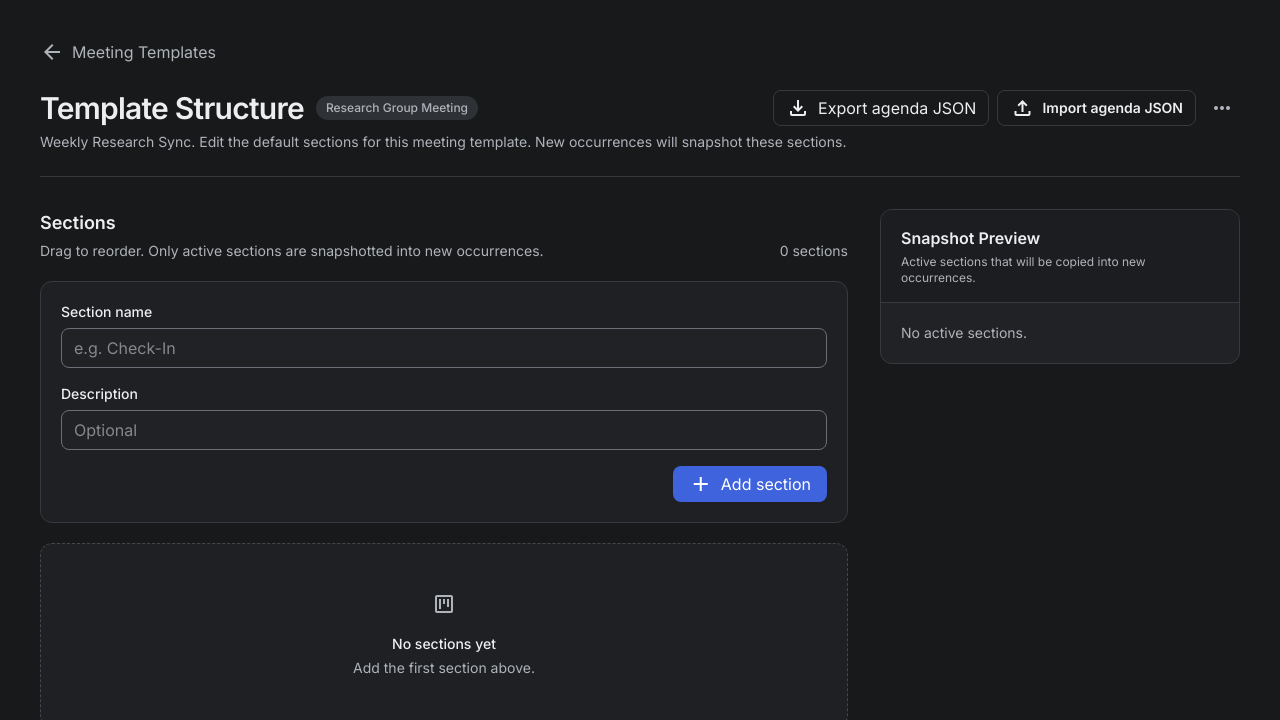
it: MeetingSeriesDetailPage template deletion › requires explicit confirmation and names the template before deleting
Expected: the heading "Template Structure" is shown, [40,90,304,126]
Click the button named "Template actions": (1222, 108) [1204,90,1240,126]
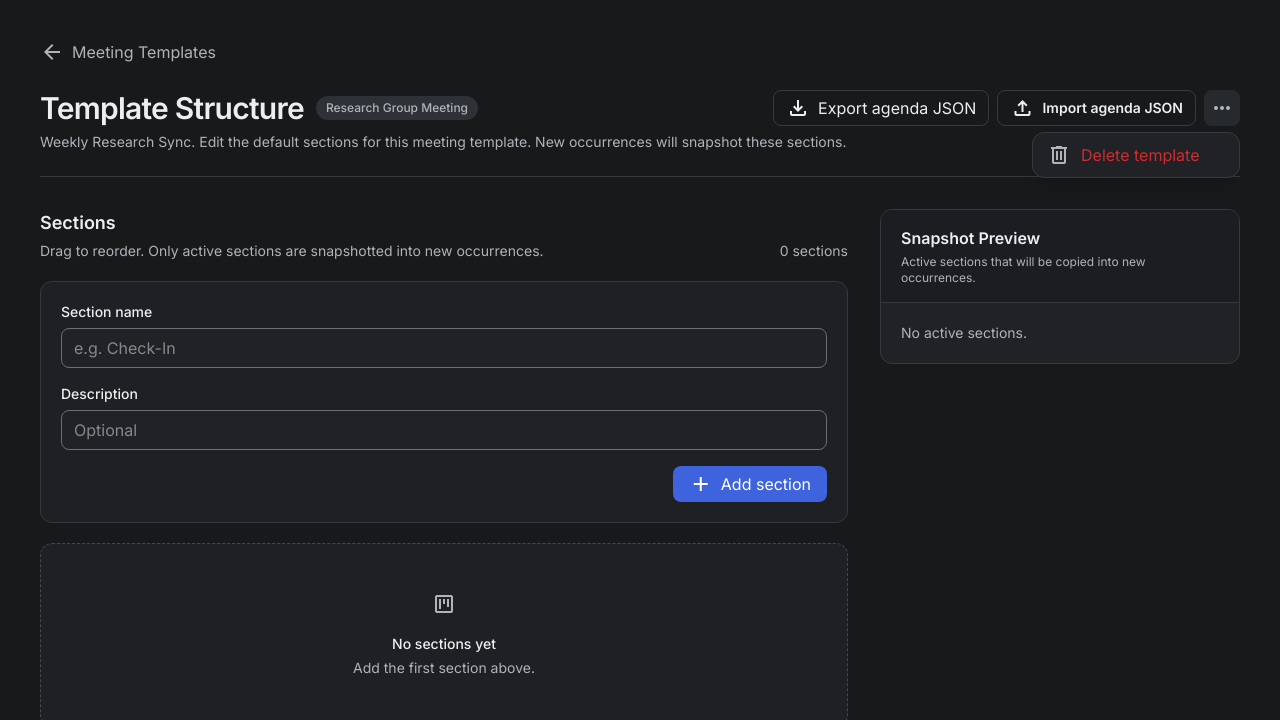
Click the menu item "Delete template": (1136, 155) [1037,137,1235,173]
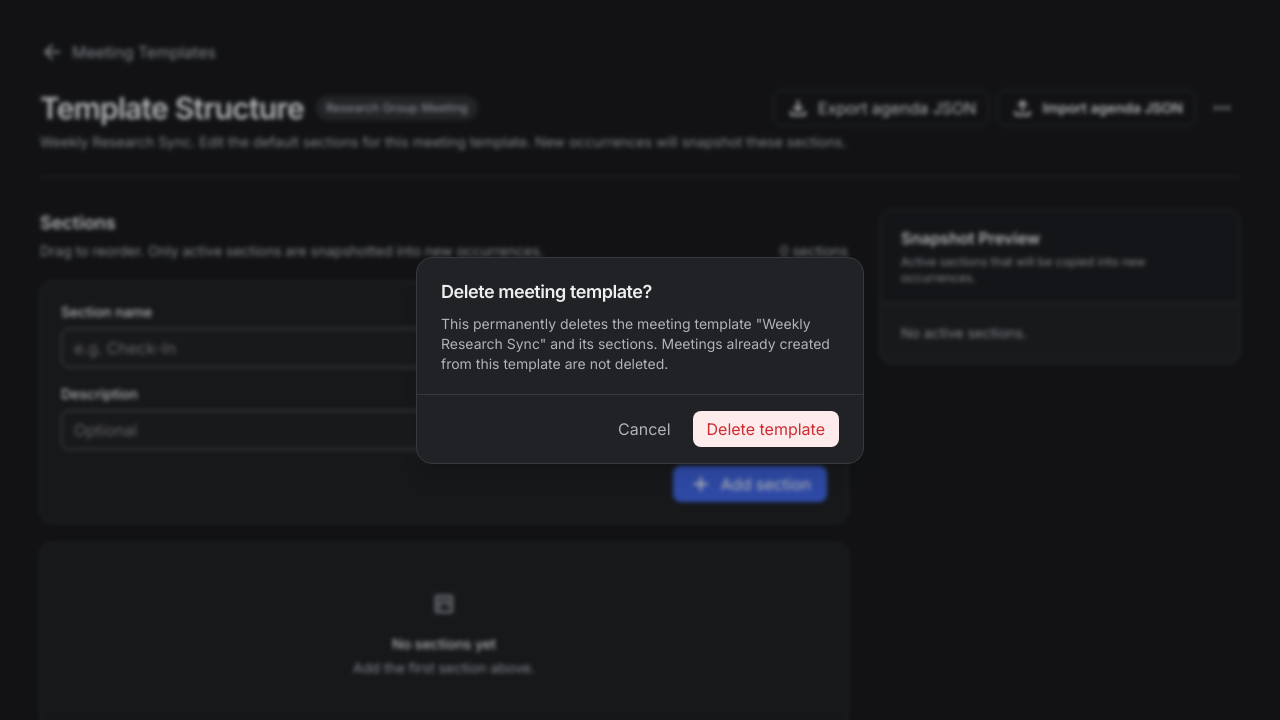
Now the dialog "Delete meeting template?" is shown, box [416,256,864,464]
Now the text "Weekly Research Sync" is shown, box [441,314,811,352]
